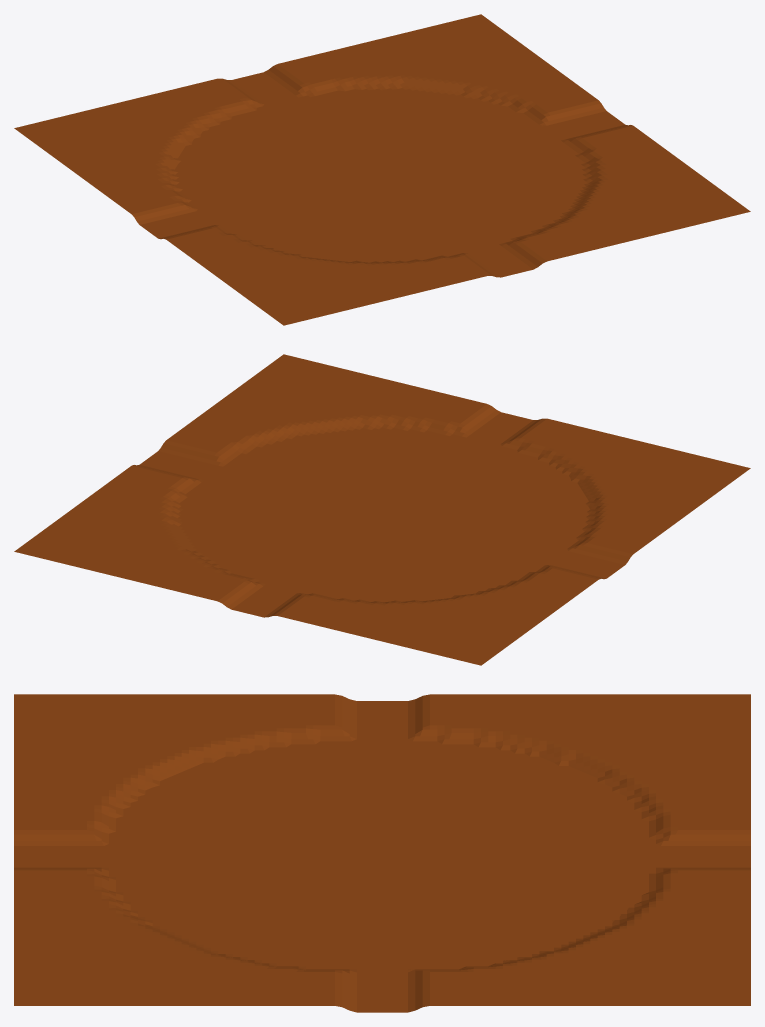
Rendered from Terrain_Part_Plane_14.glb.
The picture shows the model from 3 angles, top to bottom: view 1: azimuth 30°, elevation 25°; view 2: azimuth 150°, elevation 25°; view 3: azimuth 270°, elevation 25°; orthographic projection. The views are drawn at different scales.
Visible parts, largest first — view 1: Terrain_Part_Plane_14.001; view 2: Terrain_Part_Plane_14.001; view 3: Terrain_Part_Plane_14.001.
Boxes of the visible parts, left/top/right/bottom form: Terrain_Part_Plane_14.001: left=14, top=14, right=750, bottom=325; Terrain_Part_Plane_14.001: left=14, top=354, right=750, bottom=665; Terrain_Part_Plane_14.001: left=14, top=694, right=750, bottom=1012.
Size of the model in its own units: 20 by 0.2 by 20.
